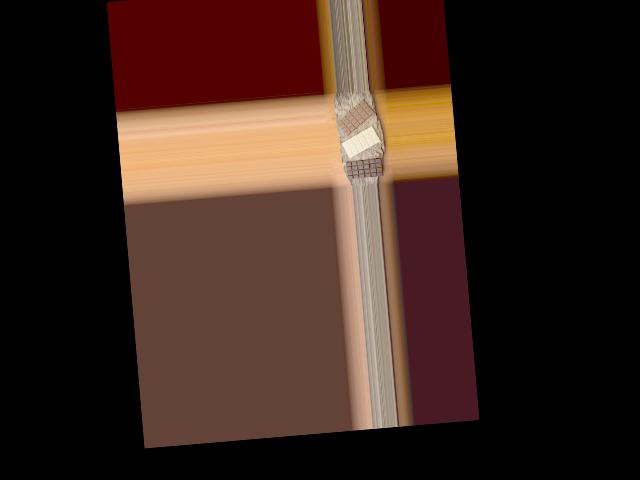chocolate: (345, 158, 384, 180)
